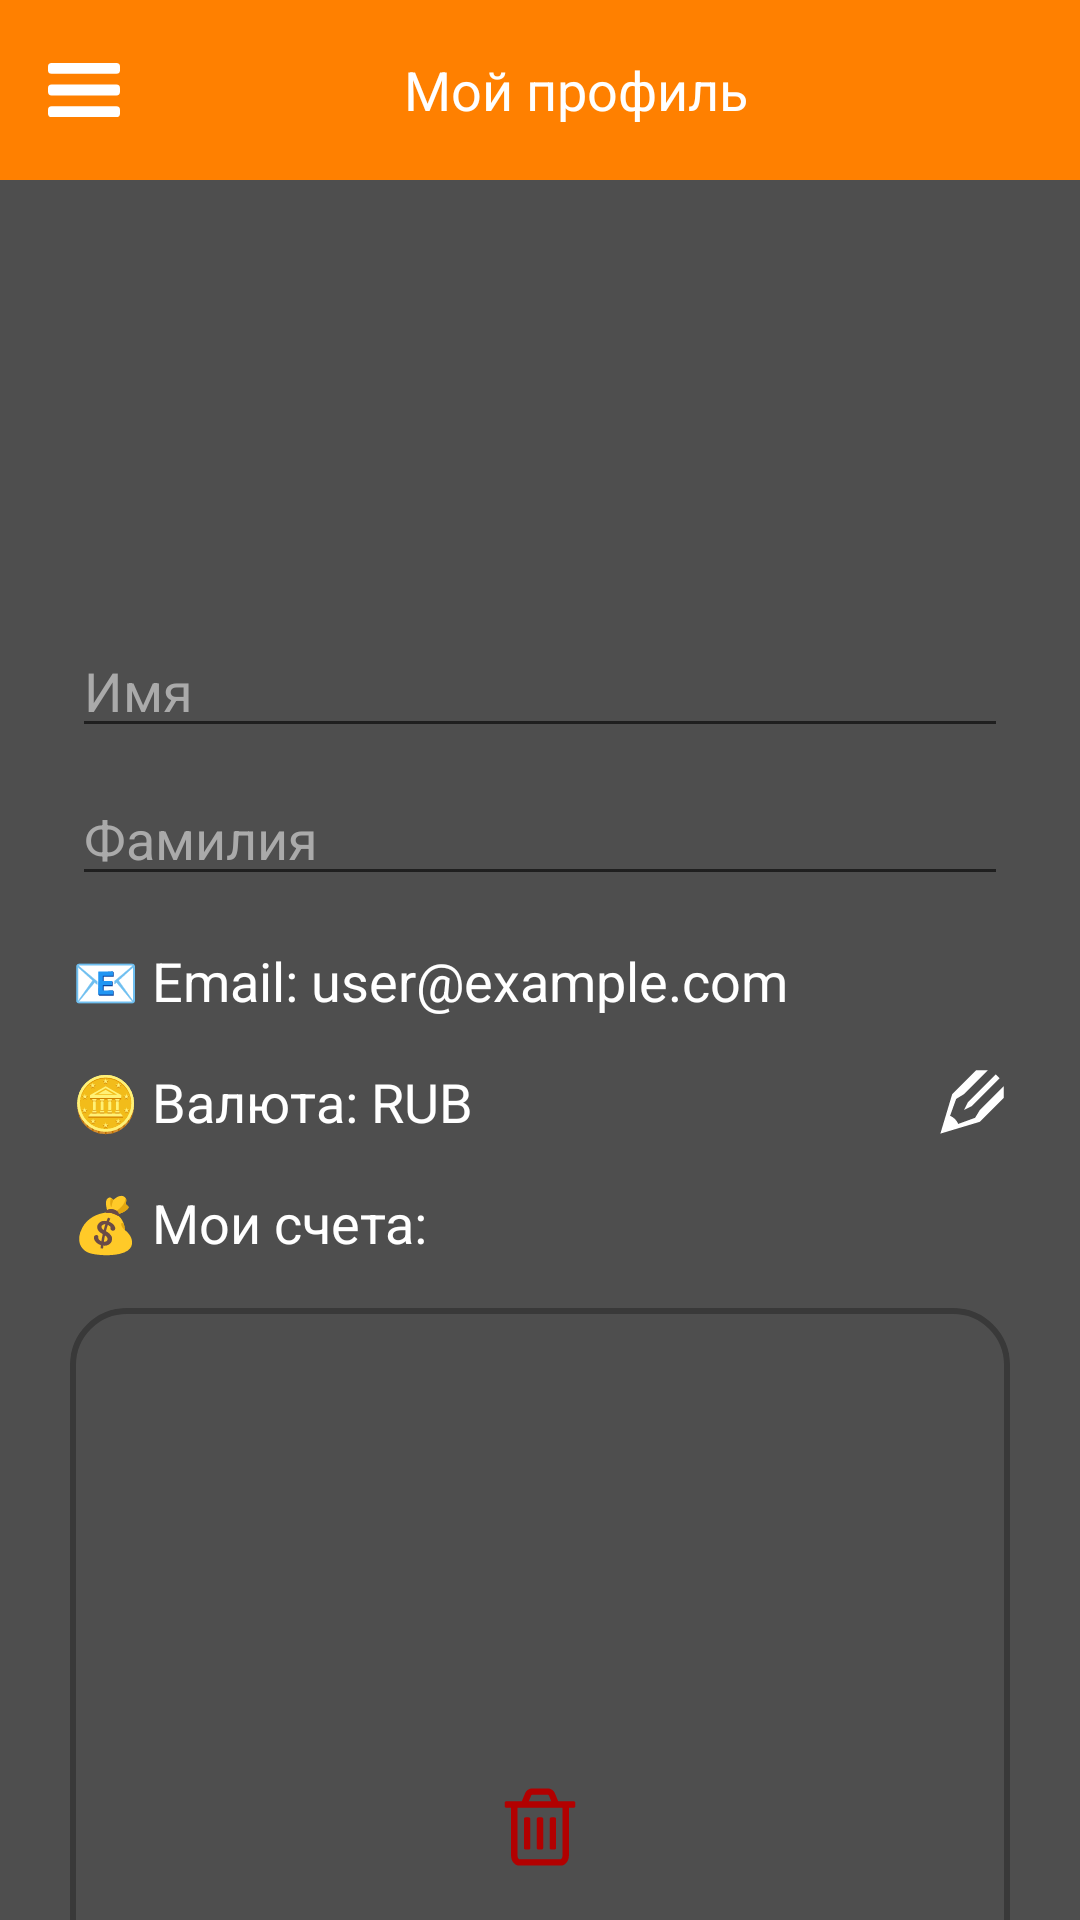

Point at icon controls on the screen. Image size 1080 × 1920, points as (x=x, y=y).
delete user: (x=540, y=1827)
edit: (x=972, y=1102)
menu: (x=84, y=90)
